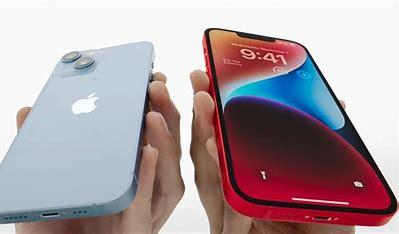-iphone: (188, 17, 399, 231), (0, 32, 163, 234)
